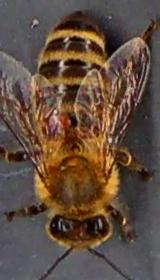varroa_mite: (42, 103, 75, 136)
